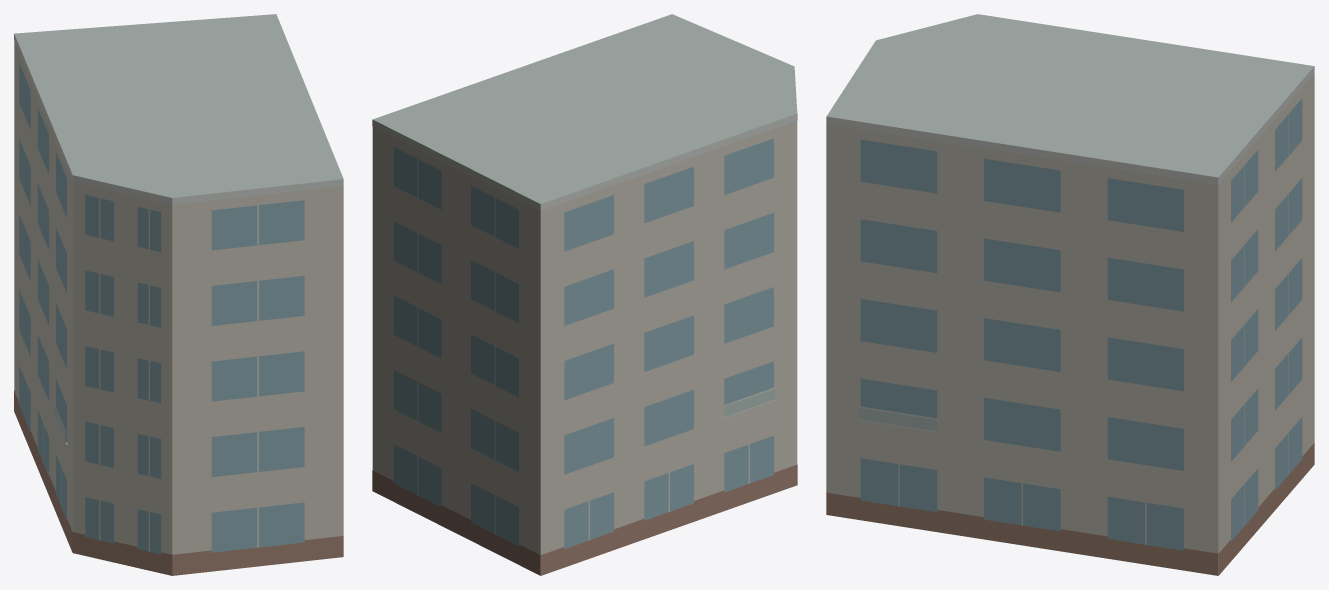
The model's file is survey-upis-32892542.glb.
3 renders of one model, left to right at view 1: azimuth 30°, elevation 25°; view 2: azimuth 150°, elevation 25°; view 3: azimuth 270°, elevation 25°, orthographic. The views are drawn at different scales.
Visible parts, largest first — view 1: survey-upis-32892542.tmp; view 2: survey-upis-32892542.tmp; view 3: survey-upis-32892542.tmp.
Part boxes in pixels (left/top/right/bottom): survey-upis-32892542.tmp: left=14, top=14, right=343, bottom=575; survey-upis-32892542.tmp: left=372, top=14, right=797, bottom=575; survey-upis-32892542.tmp: left=826, top=14, right=1314, bottom=575.
Bounding box in the file's own units: 11.63 × 13.2 × 14.67.
